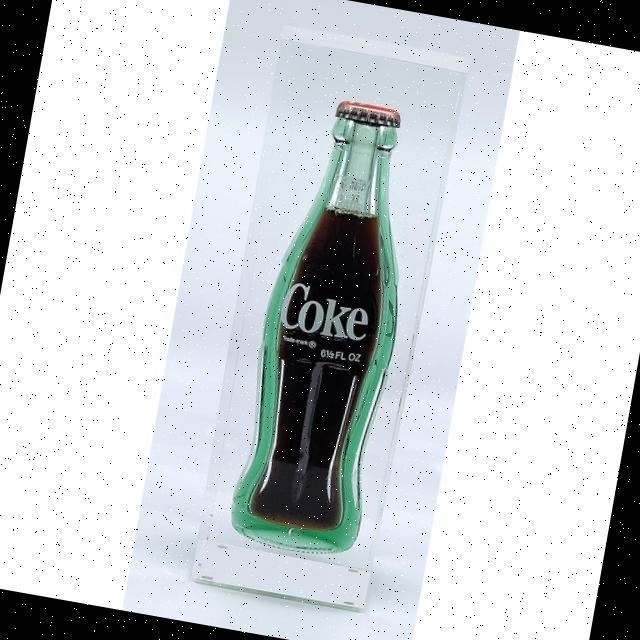coca-cola: (231, 88, 434, 551)
